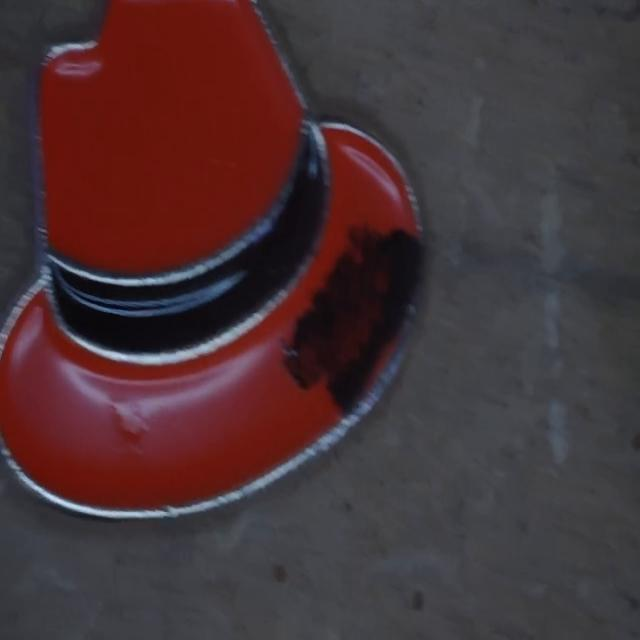Hatband: (48, 124, 329, 360)
Paint_Leak: (0, 2, 422, 516), (285, 227, 421, 413)
RedHatPin: (0, 2, 421, 517)
